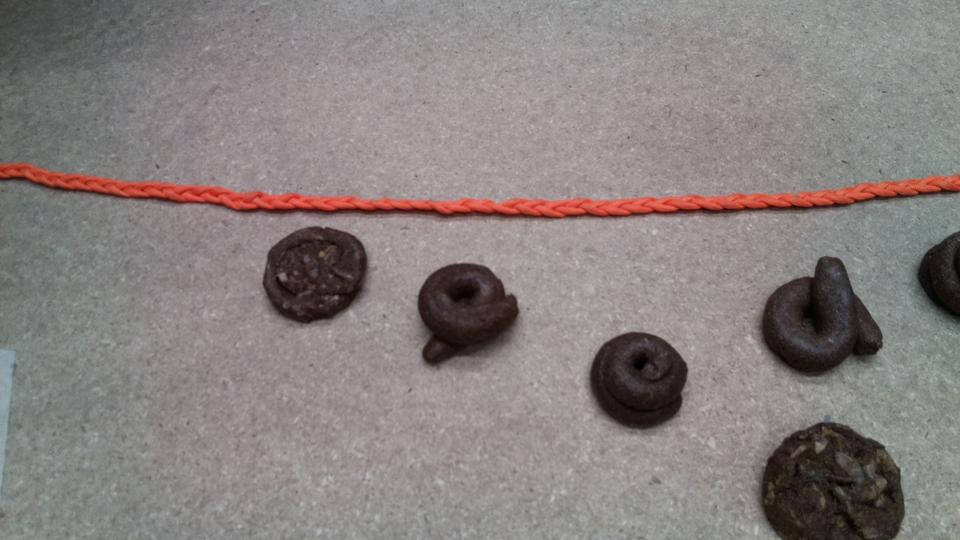poop: (756, 416, 913, 540), (760, 256, 891, 383), (255, 222, 374, 323), (413, 259, 525, 364), (586, 328, 695, 432)
rope: (2, 142, 960, 225)
